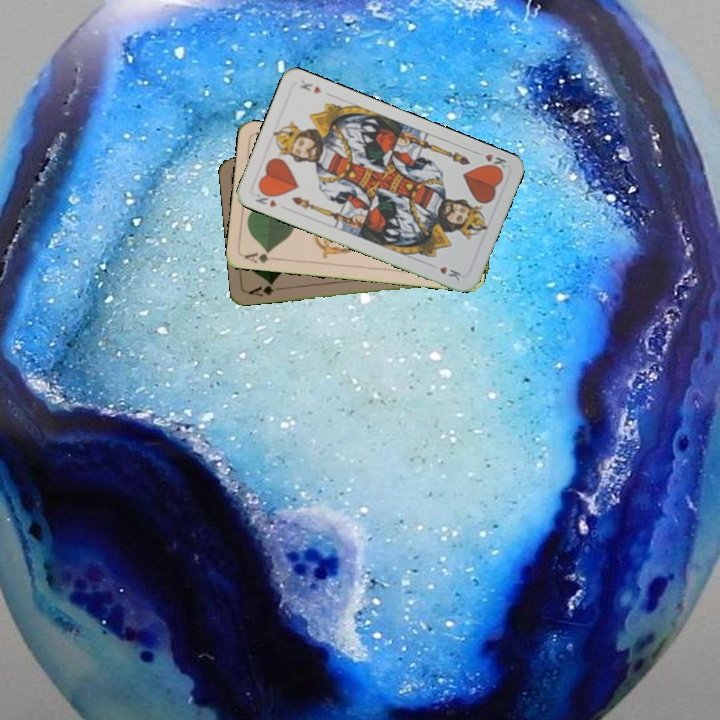GA: (245, 278, 285, 299), (240, 246, 281, 266)
HK: (471, 147, 510, 175), (251, 186, 280, 210)
